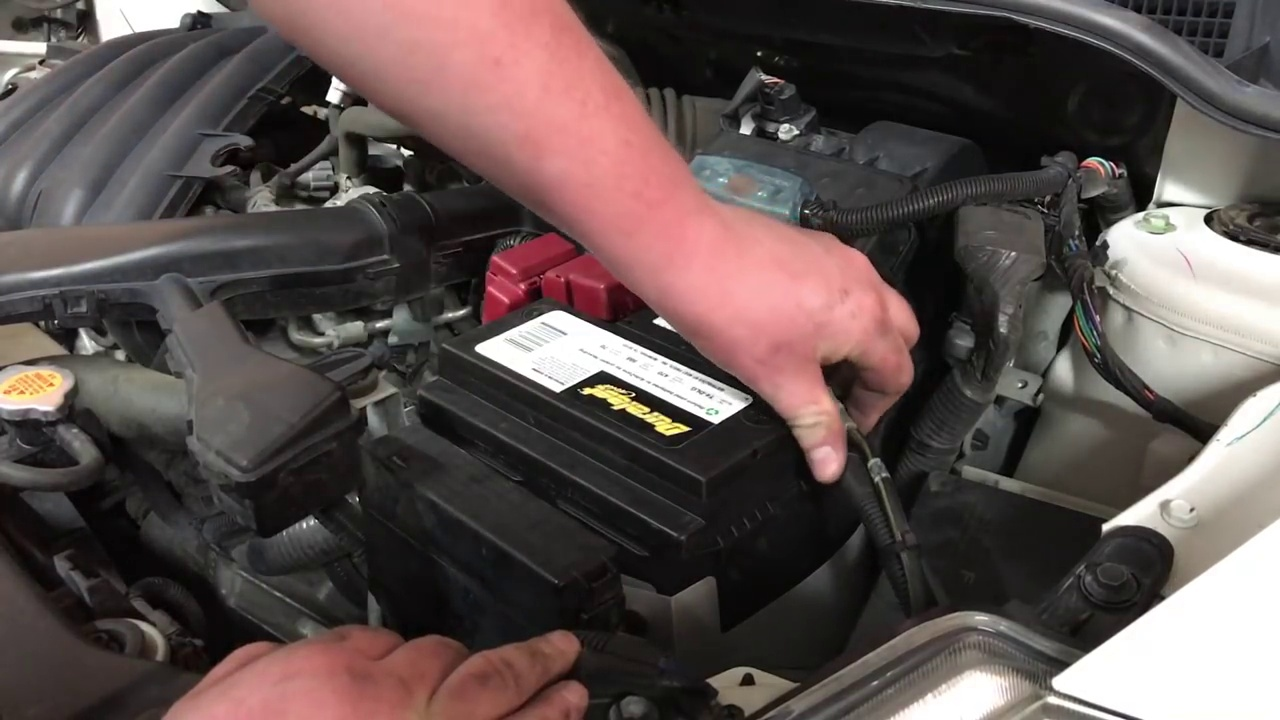battery: (433, 266, 837, 485)
pos_connected: (461, 219, 628, 337)
pos_touched: (488, 212, 759, 353)
